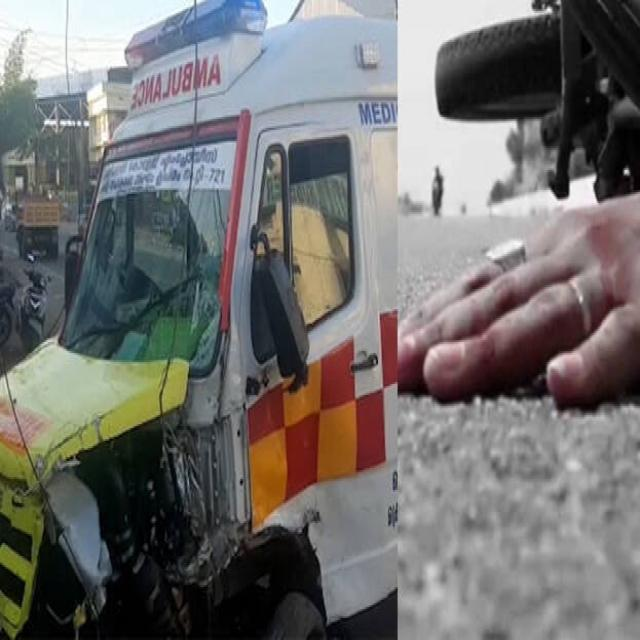accident: (0, 0, 399, 637)
